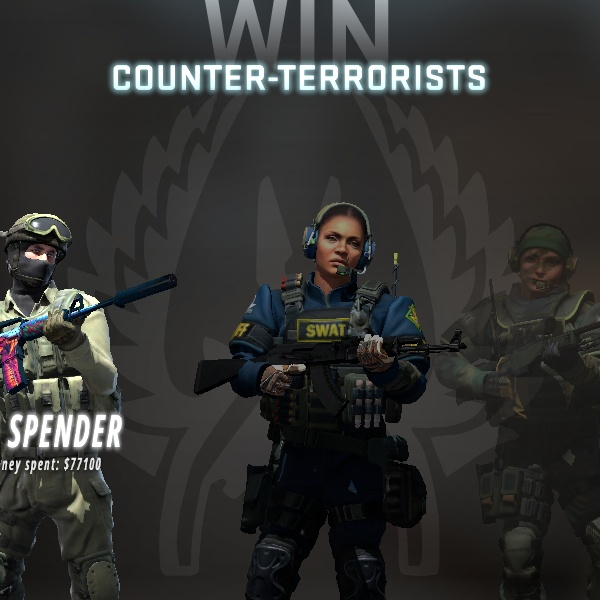ct_body: (178, 183, 468, 600)
ct_head: (283, 189, 392, 287)
